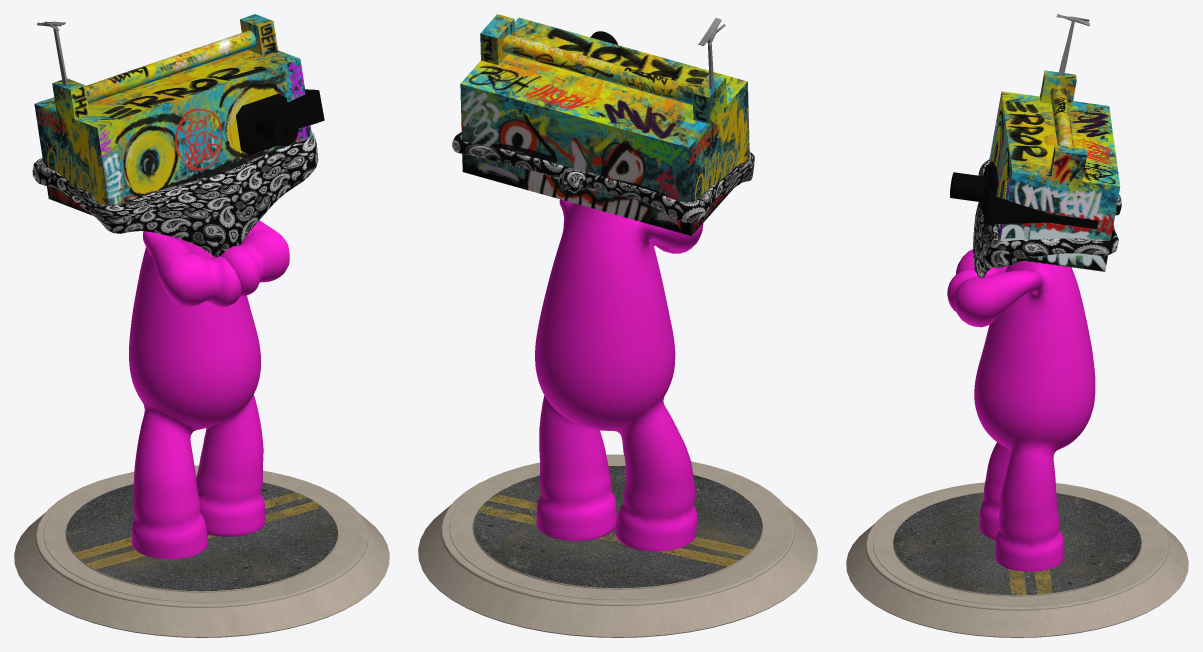
3 renders of one model, left to right at view 1: azimuth 30°, elevation 25°; view 2: azimuth 150°, elevation 25°; view 3: azimuth 270°, elevation 25°, orthographic. The views are drawn at different scales.
Parts seen in each view (by area): view 1: BBody; view 2: BBody; view 3: BBody.
Boxes of the visible parts, left/top/right/bottom form: BBody: left=14, top=14, right=389, bottom=637; BBody: left=418, top=14, right=817, bottom=637; BBody: left=846, top=14, right=1188, bottom=637.
Bounding box in the file's own units: 1.45 × 2.33 × 1.45.
Materials: 7 (4 with a texture image).
